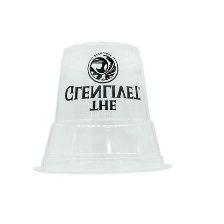glass: (30, 35, 182, 181)
